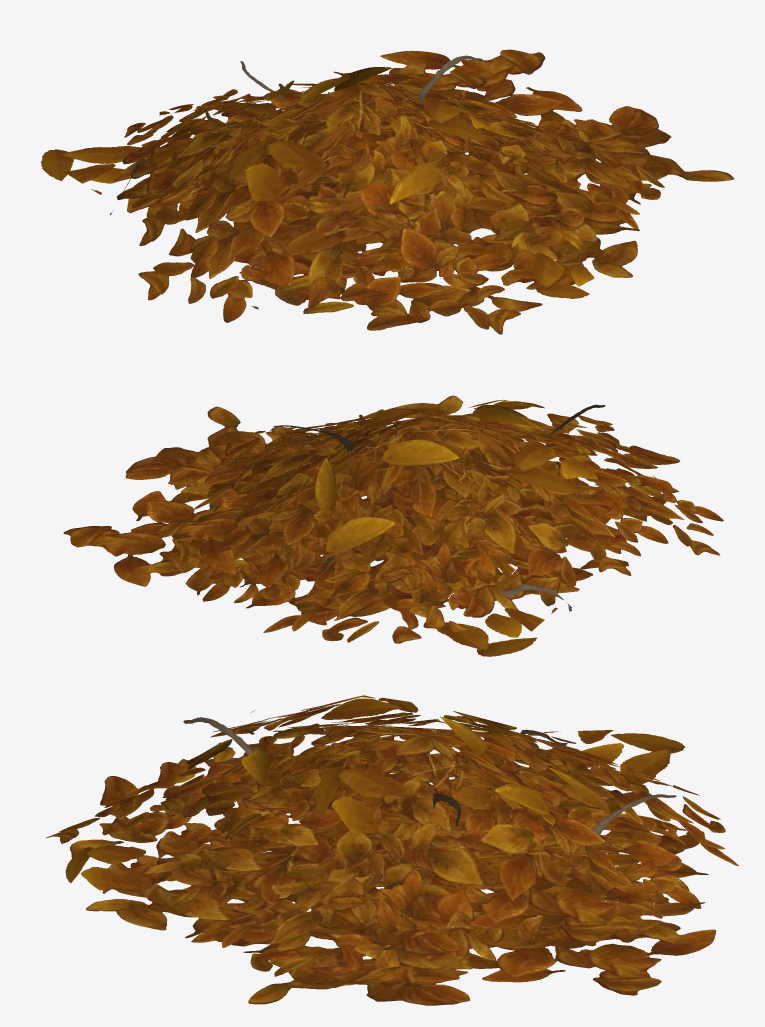
The picture shows the model from 3 angles, top to bottom: view 1: azimuth 30°, elevation 25°; view 2: azimuth 150°, elevation 25°; view 3: azimuth 270°, elevation 25°; orthographic projection. The views are drawn at different scales.
Size of the model in its own units: 8.14 by 1.66 by 7.89.
1 material, 1 textured.
